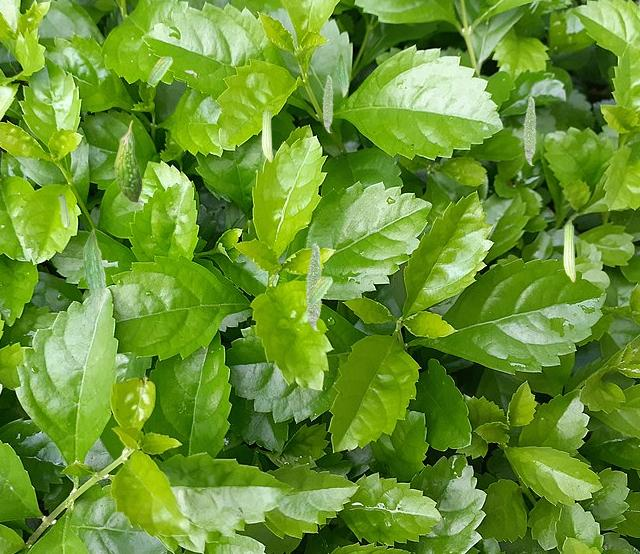ampalaya: (113, 120, 142, 204), (82, 229, 106, 312), (305, 242, 322, 331), (523, 95, 536, 166), (563, 220, 576, 282), (308, 275, 333, 304), (148, 55, 173, 84), (261, 107, 273, 163), (322, 74, 333, 133), (335, 52, 349, 97), (58, 193, 70, 227)
